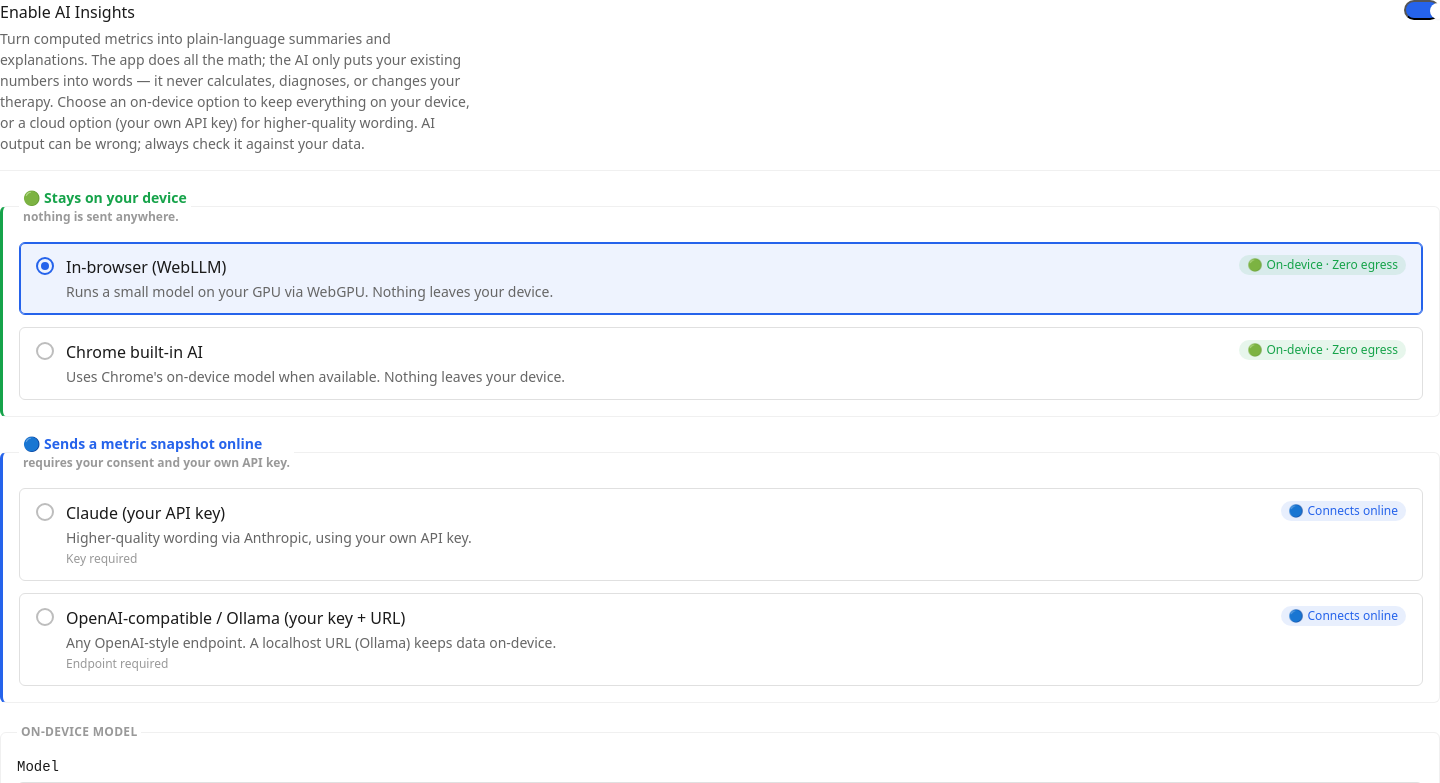
Scenario: AiInsightsPanel › selecting Claude opens consent and does NOT commit the backend until acknowledged
The width and height of the screenshot is (1440, 783).
What coordinates should you click on to do the following:
click the radio button labelled "Claude"
I would click on:
 (721, 534)
Its box is [19,488,1423,581].
(page scrolled)
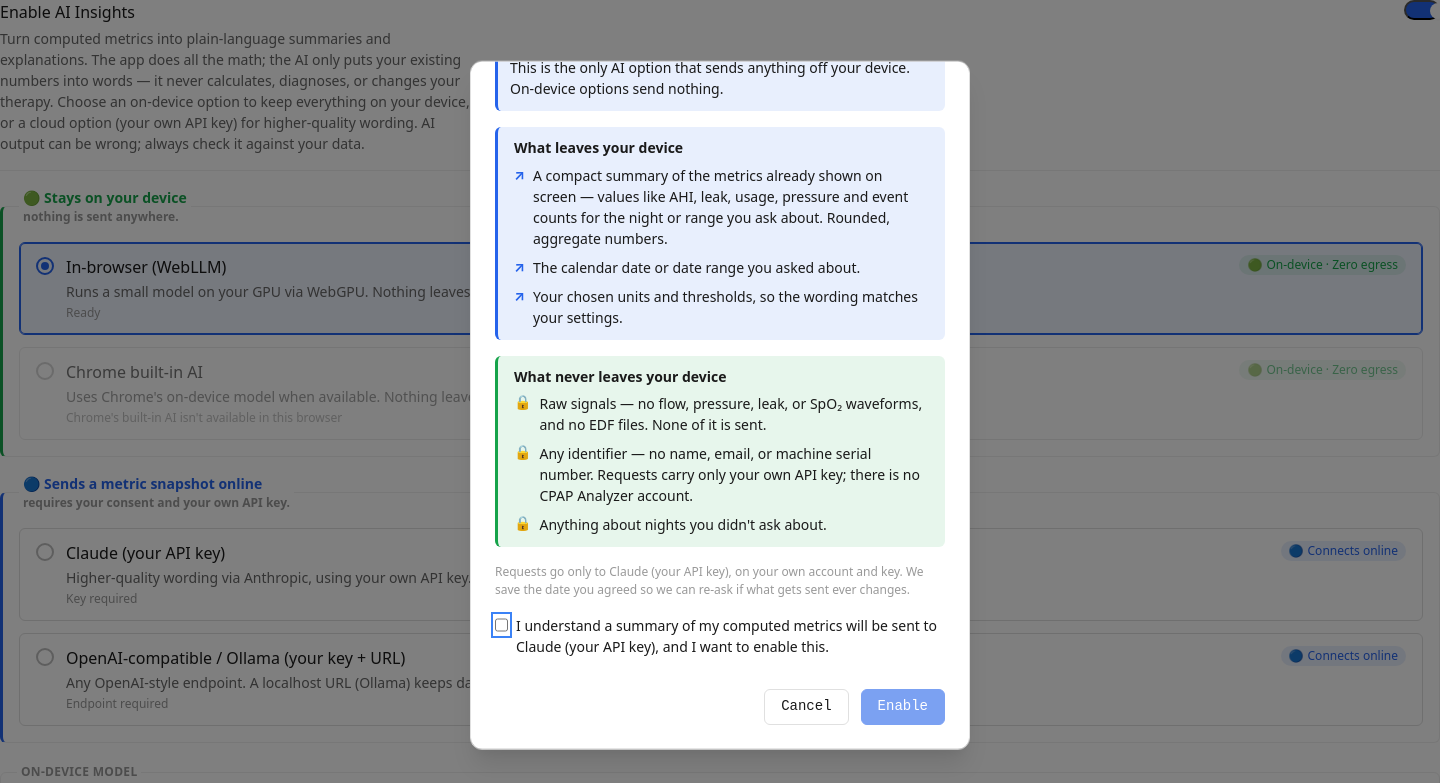
Check: the button "Enable" is disabled, box [861,689,945,725]
